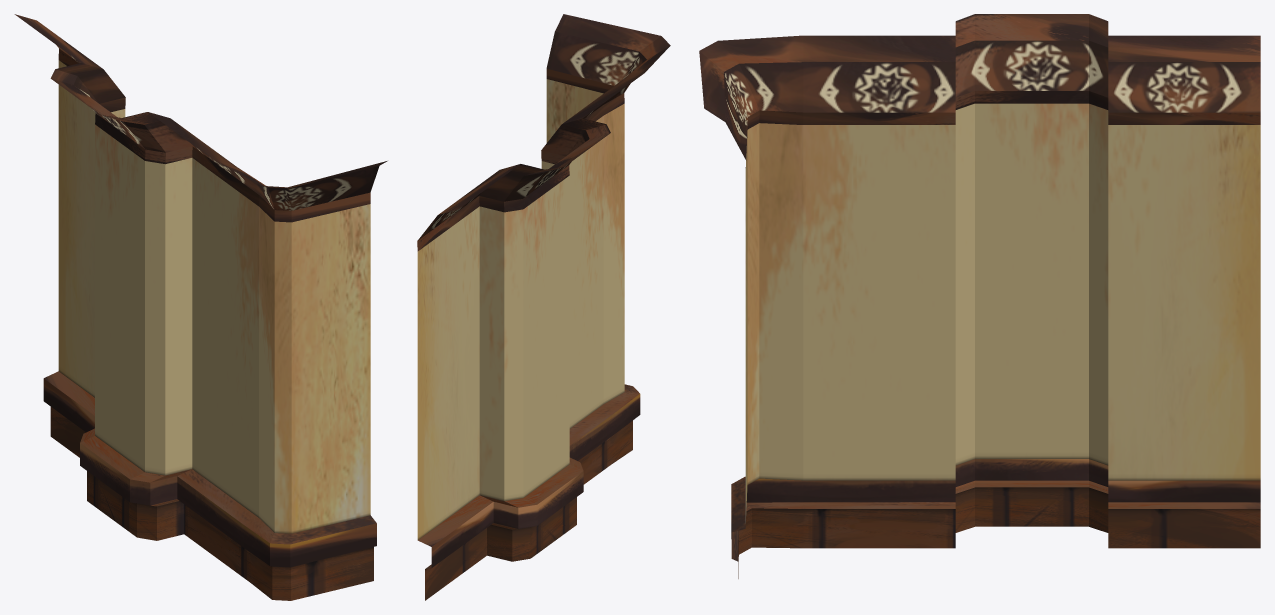
The model's file is стіна поворот один.fbx.
3 renders of one model, left to right at view 1: azimuth 30°, elevation 25°; view 2: azimuth 150°, elevation 25°; view 3: azimuth 270°, elevation 25°, orthographic. The views are drawn at different scales.
Visible parts, largest first — view 1: трім.010; view 2: трім.010; view 3: трім.010.
Part boxes in pixels (x1=…): трім.010: x1=14, y1=14, x2=387, y2=600; трім.010: x1=417, y1=14, x2=670, y2=600; трім.010: x1=699, y1=14, x2=1260, y2=578.
Bounding box in the file's own units: 114 × 277 × 286.
